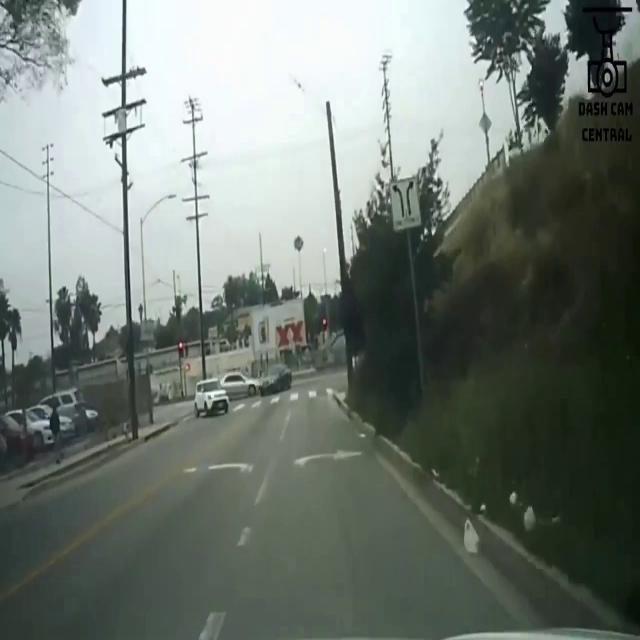accident: (223, 360, 293, 404)
